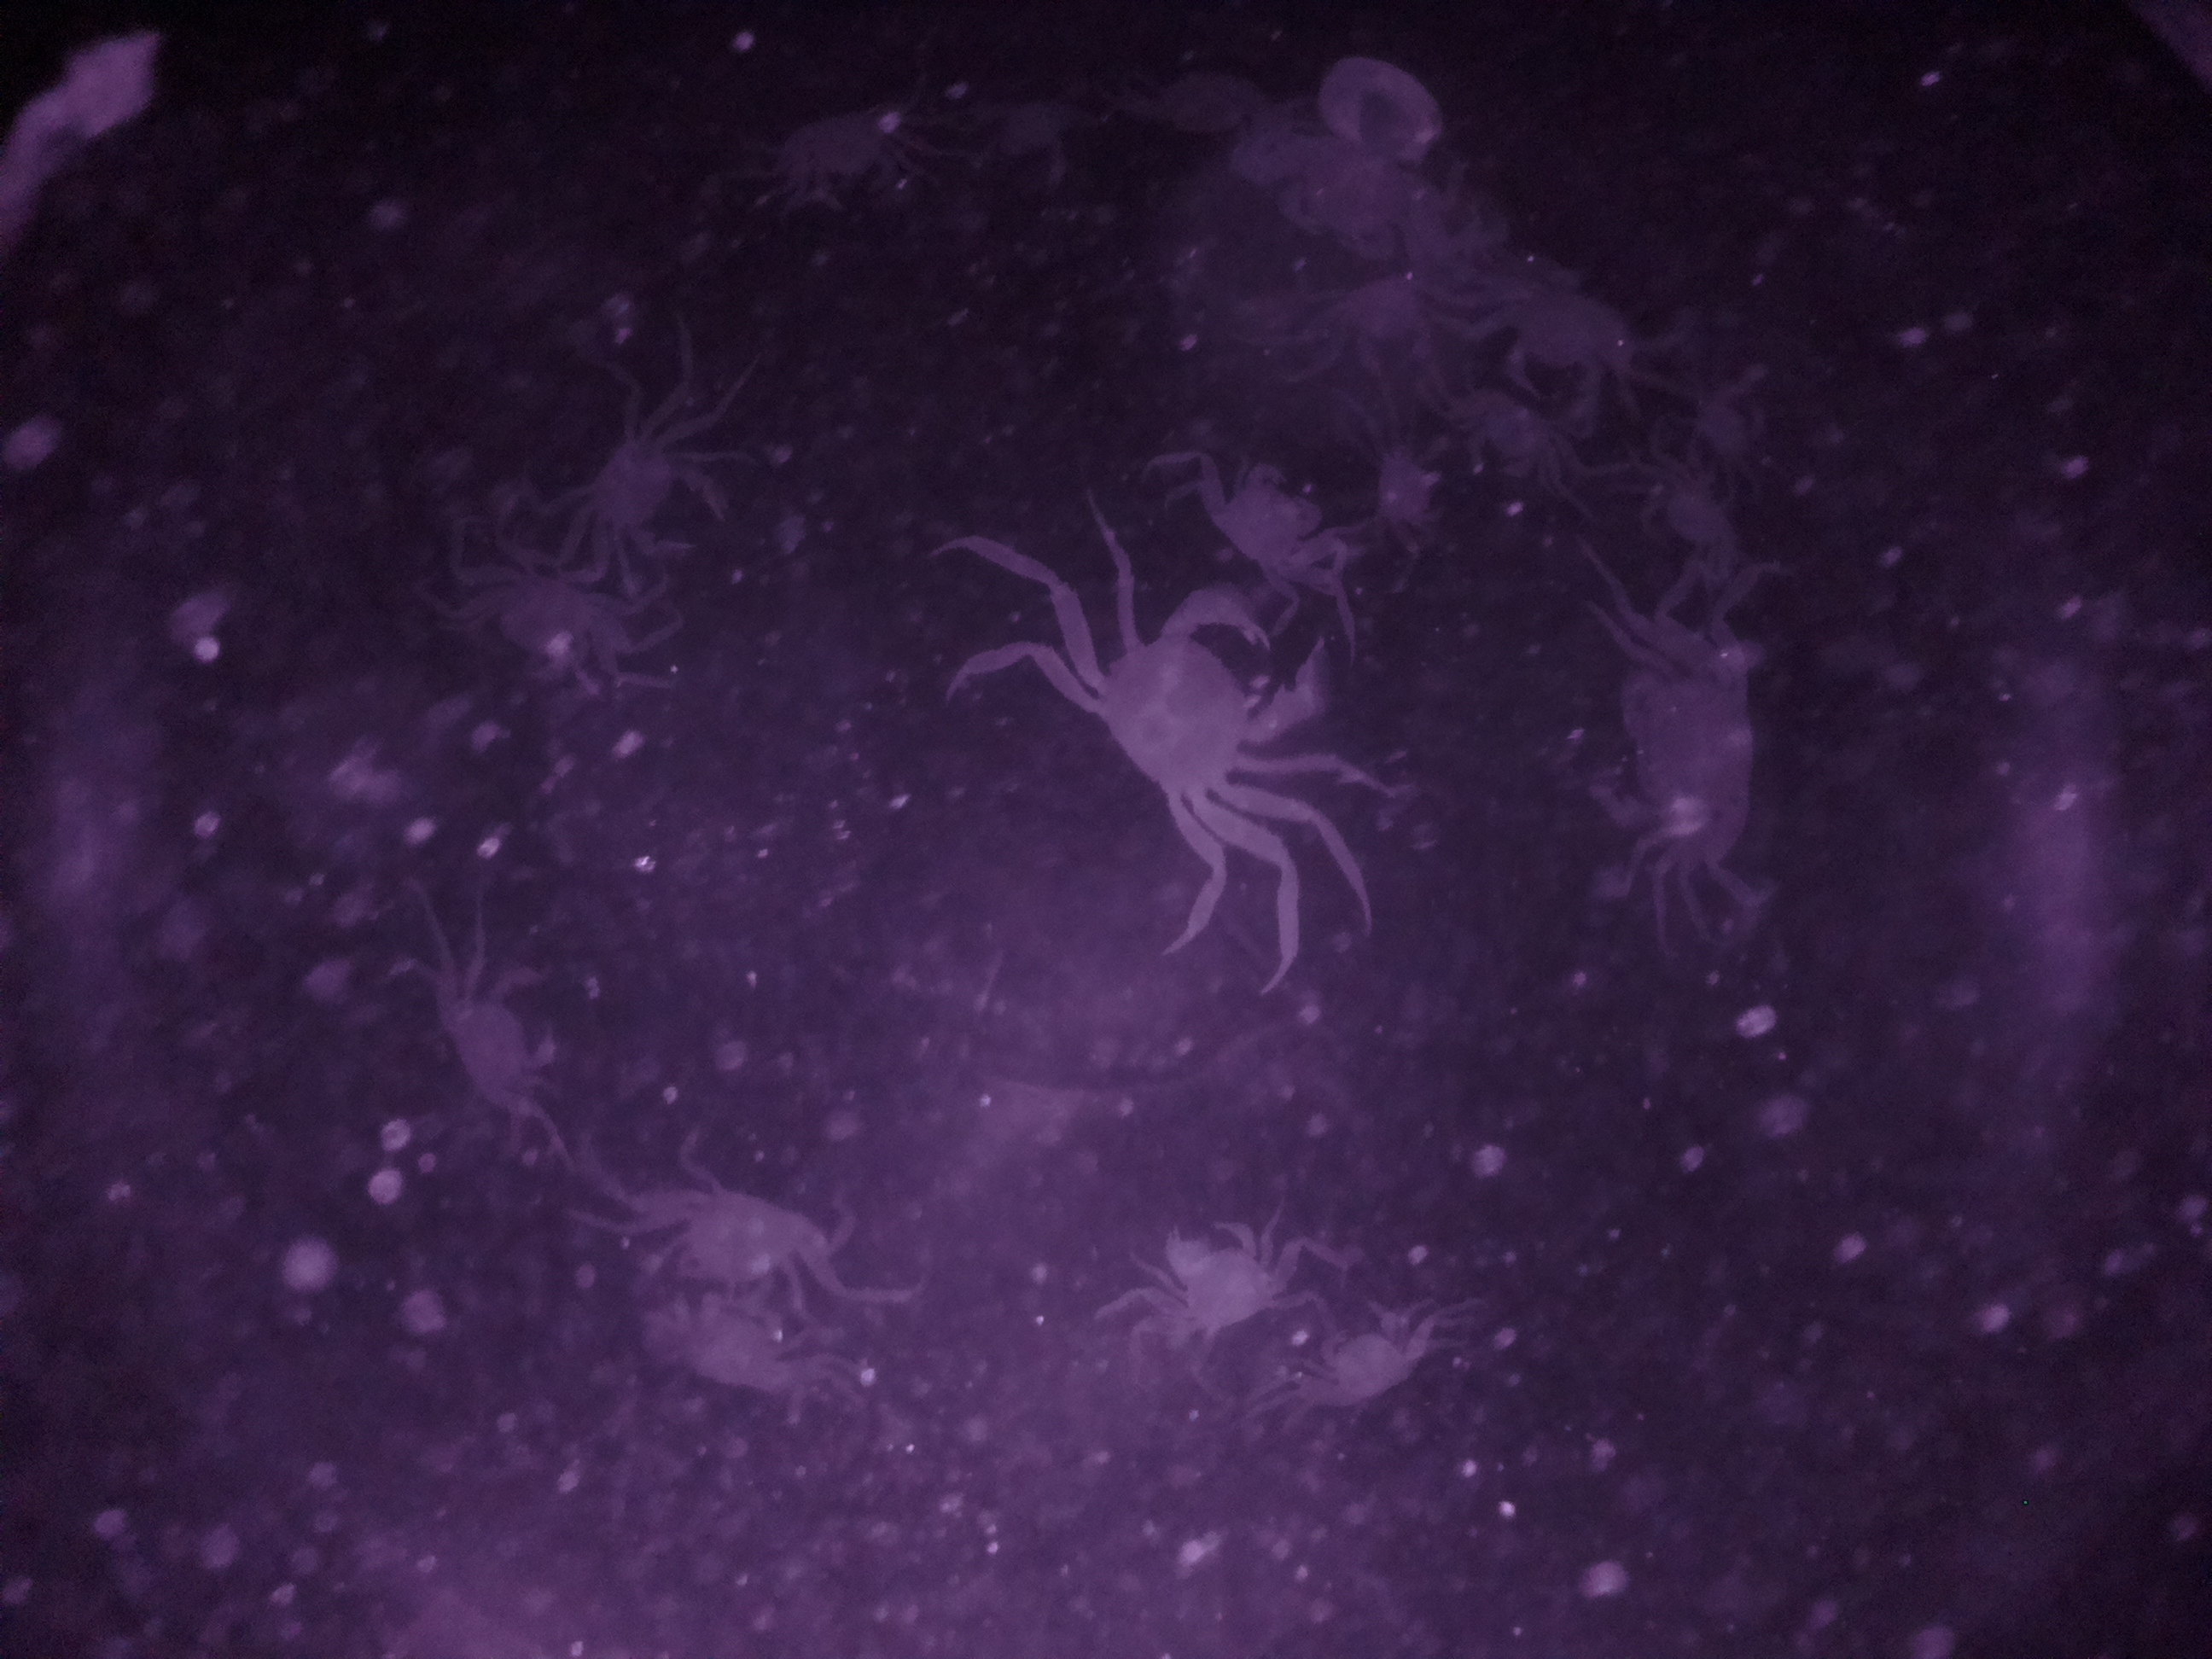Crab: (1064, 586, 1338, 870), (1569, 619, 1777, 887), (402, 957, 582, 1145), (644, 1164, 850, 1323), (456, 538, 643, 702), (571, 397, 737, 573), (1181, 439, 1350, 592), (1148, 1202, 1289, 1364), (1282, 1288, 1439, 1417), (1446, 368, 1566, 516)
